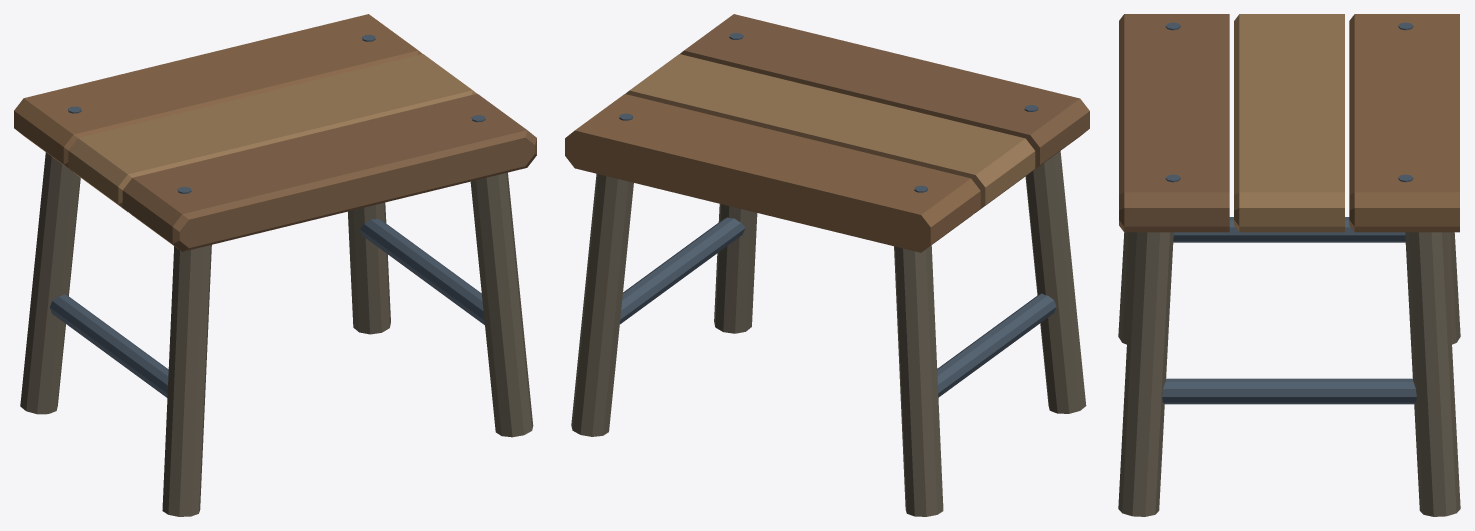
Rendered from W-10_child_step.glb.
3 renders of one model, left to right at view 1: azimuth 30°, elevation 25°; view 2: azimuth 150°, elevation 25°; view 3: azimuth 270°, elevation 25°, orthographic. The views are drawn at different scales.
Parts seen in each view (by area): view 1: W-10_child_step; view 2: W-10_child_step; view 3: W-10_child_step.
Boxes of the visible parts, x1,y1,x2,y2 form: W-10_child_step: (14,14,536,516); W-10_child_step: (565,14,1089,516); W-10_child_step: (1118,14,1460,516).
Size of the model in its own units: 0.4145 by 0.3317 by 0.318.
